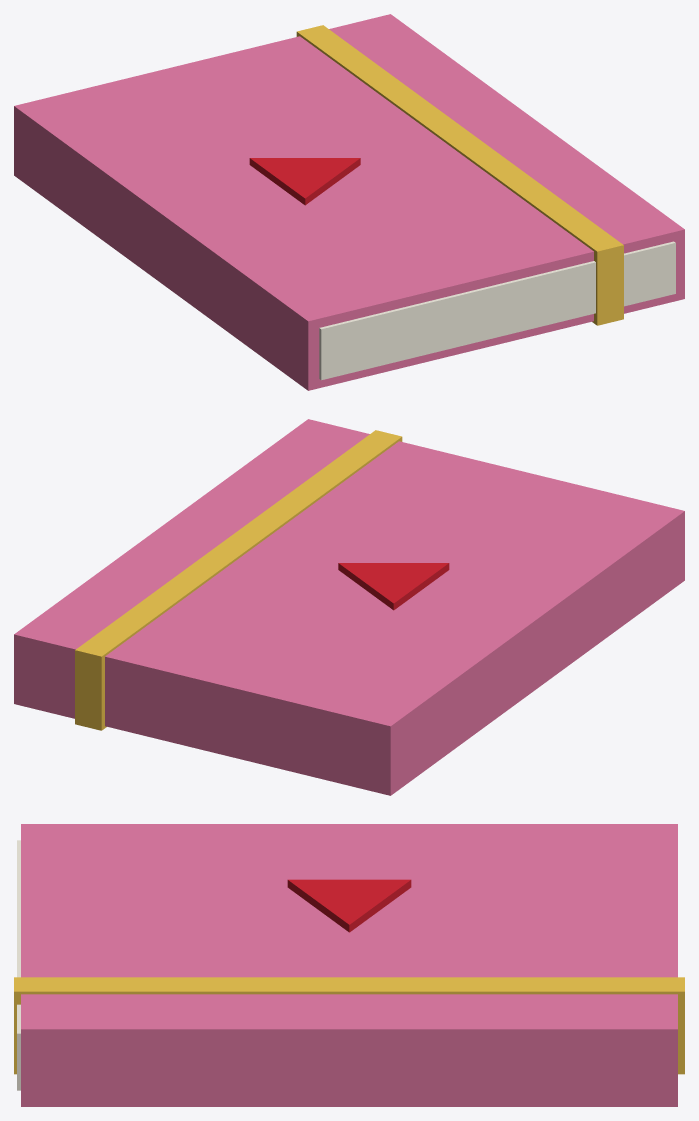
The model's file is deposit_book.glb.
3 views of the same model, one above another, from view 1: azimuth 30°, elevation 25°; view 2: azimuth 150°, elevation 25°; view 3: azimuth 270°, elevation 25° (orthographic). The views are drawn at different scales.
Visible parts, largest first — view 1: cover_book_pink, pages_book_pages, ribbon_book_ribbon, heart_book_heart; view 2: cover_book_pink, ribbon_book_ribbon, heart_book_heart; view 3: cover_book_pink, ribbon_book_ribbon, heart_book_heart, pages_book_pages.
Boxes of the visible parts, x1,y1,x2,y2 form: cover_book_pink: [14, 14, 684, 390]; pages_book_pages: [319, 241, 675, 380]; ribbon_book_ribbon: [296, 25, 623, 325]; heart_book_heart: [249, 158, 360, 205]; cover_book_pink: [14, 419, 684, 795]; ribbon_book_ribbon: [75, 430, 402, 730]; heart_book_heart: [338, 563, 449, 610]; cover_book_pink: [21, 824, 677, 1106]; ribbon_book_ribbon: [14, 977, 684, 1074]; heart_book_heart: [287, 879, 411, 932]; pages_book_pages: [17, 840, 20, 1090].
Bounding box in the file's own units: 0.17 × 0.034 × 0.235.
